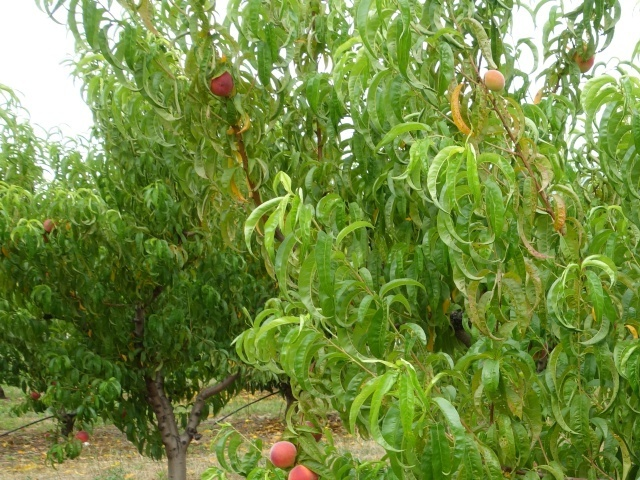peach: (201, 64, 238, 102), (267, 438, 301, 471), (480, 66, 507, 97), (570, 48, 598, 76), (284, 463, 324, 480)
